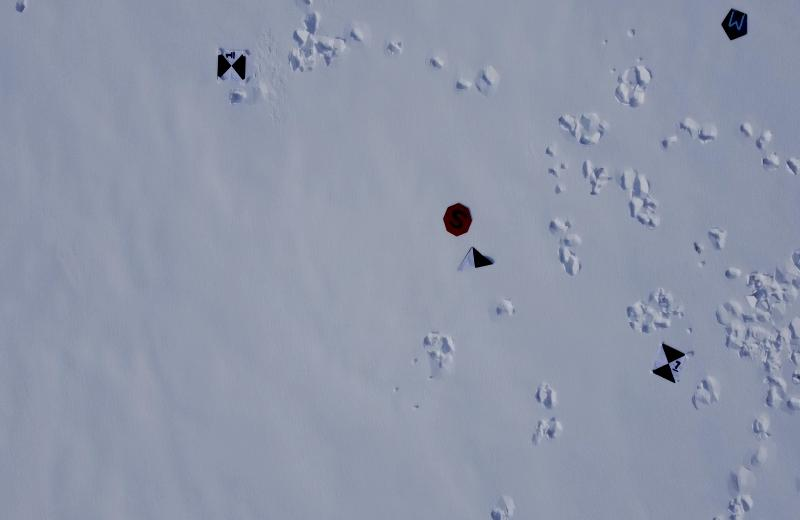Octagon: (435, 197, 479, 248)
Pentagon: (716, 0, 759, 46)
